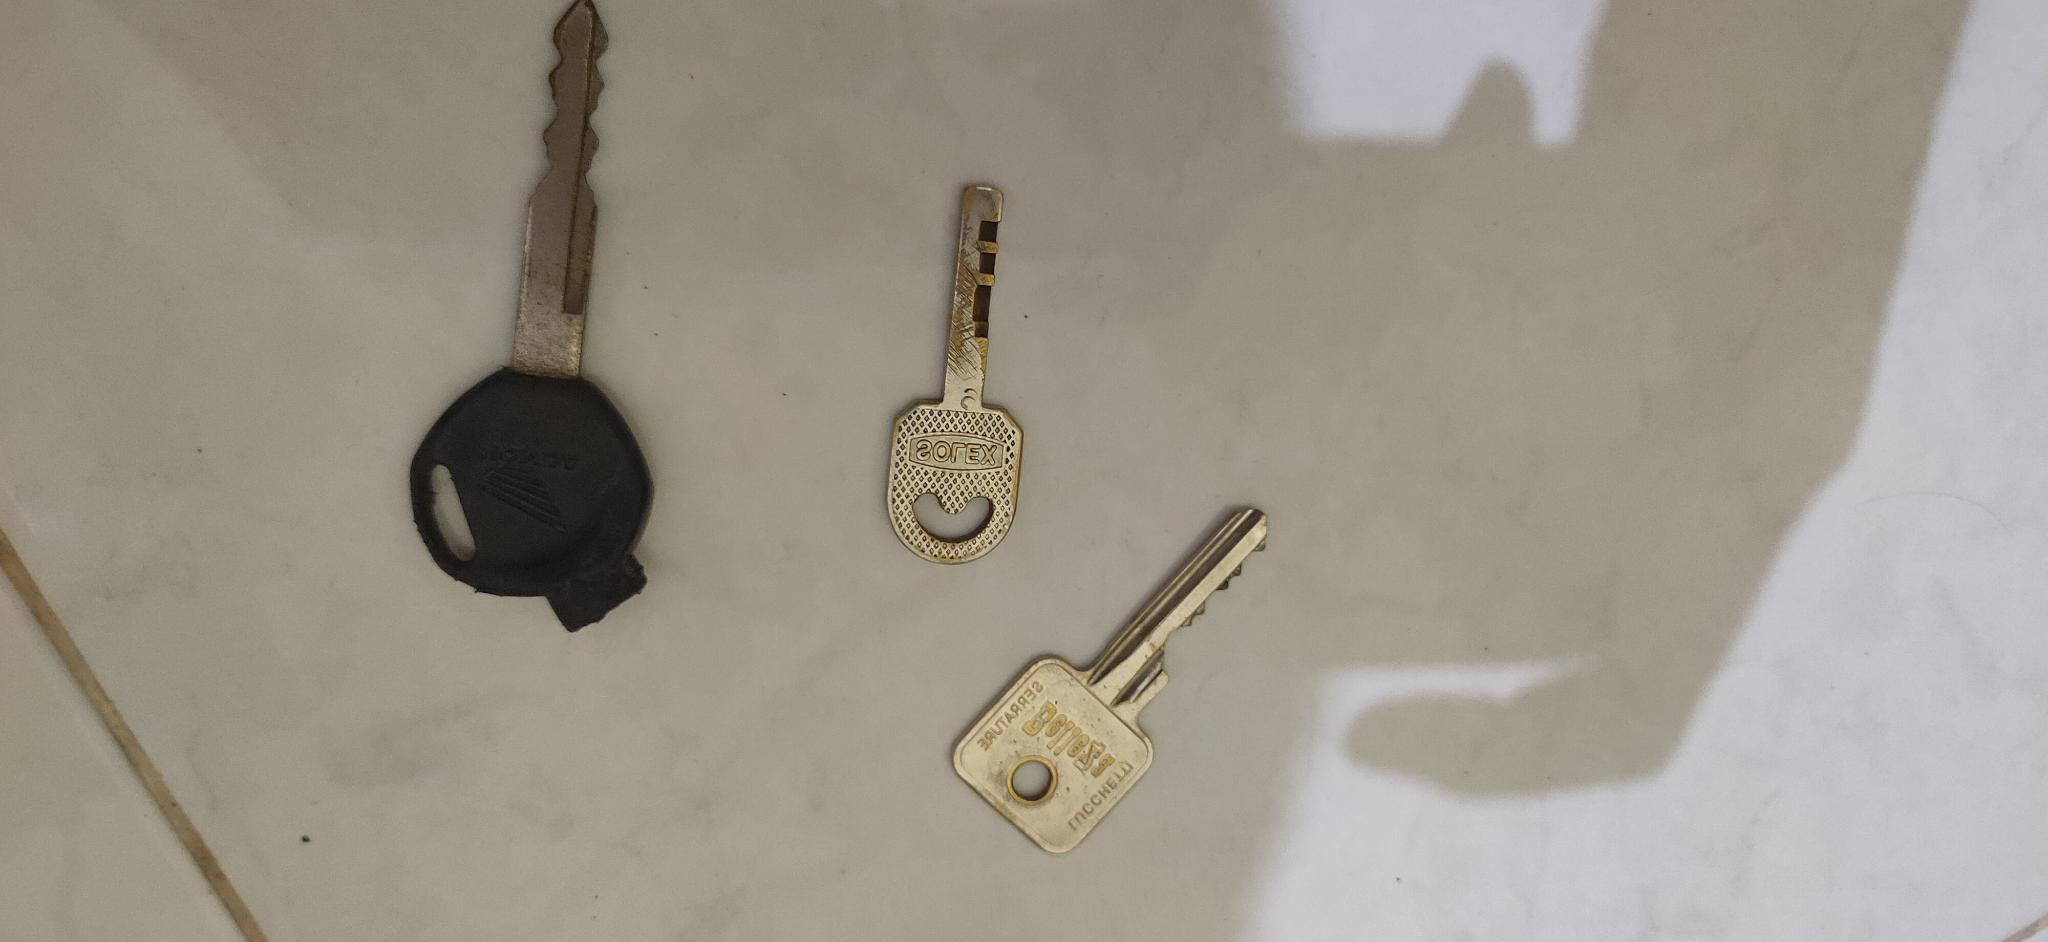keys: (391, 3, 666, 638), (933, 502, 1300, 890), (869, 162, 1044, 577)
